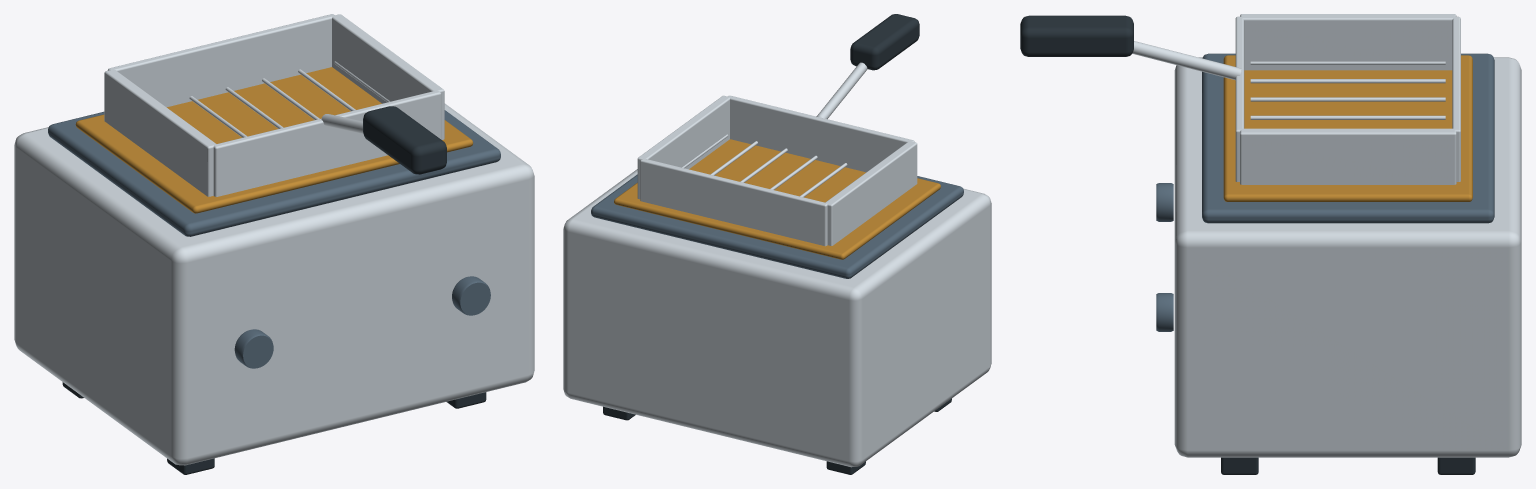
Rendered from fire-fryer.glb.
3 views of the same model, side by side, from view 1: azimuth 30°, elevation 25°; view 2: azimuth 150°, elevation 25°; view 3: azimuth 270°, elevation 25° (orthographic). The views are drawn at different scales.
Visible parts, largest first — view 1: fire-fryer; view 2: fire-fryer; view 3: fire-fryer.
Part boxes in pixels (bbox=[...]): fire-fryer: bbox=[14, 14, 534, 474]; fire-fryer: bbox=[563, 14, 991, 474]; fire-fryer: bbox=[1020, 14, 1521, 474].
Size of the model in its own units: 0.4 by 0.3845 by 0.4625.
